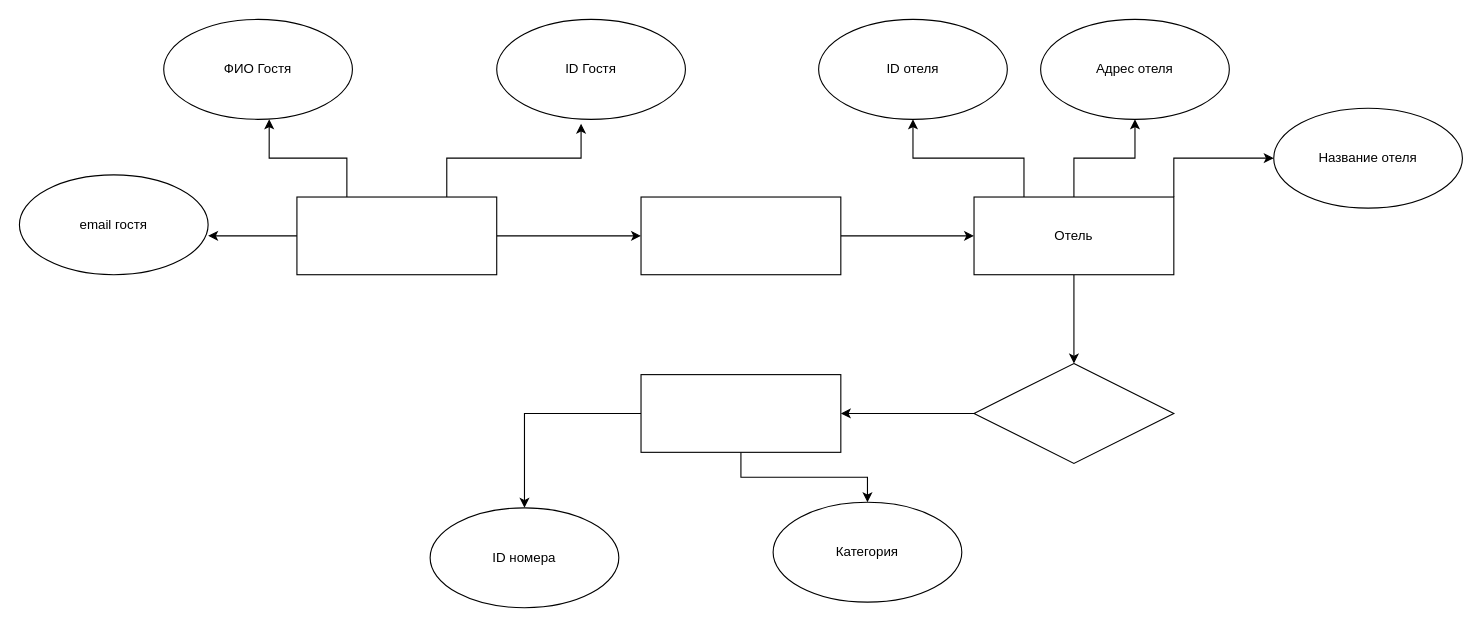
Some shapes in this 1482 by 627 pixel diagram are drawn without their labels. The shapes that lost their labels are listed below. From the top down, each one's centre as x and y in pixels, then its label:
pixel 396 235: Гость
pixel 740 235: Бронирует
pixel 740 413: Номер
pixel 1073 412: Содержит
